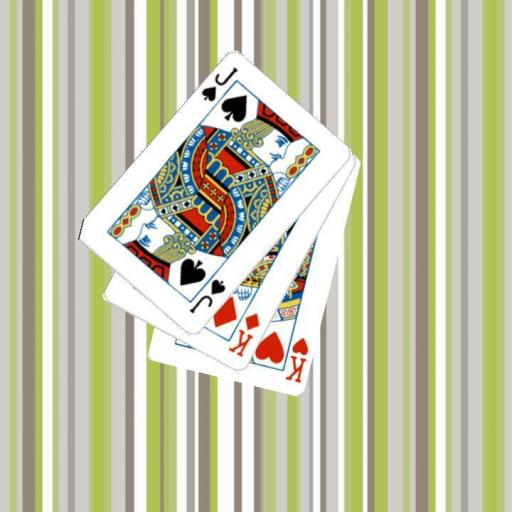card-corner: (224, 310, 262, 359), (186, 276, 228, 316), (198, 64, 240, 104), (282, 334, 310, 385)
